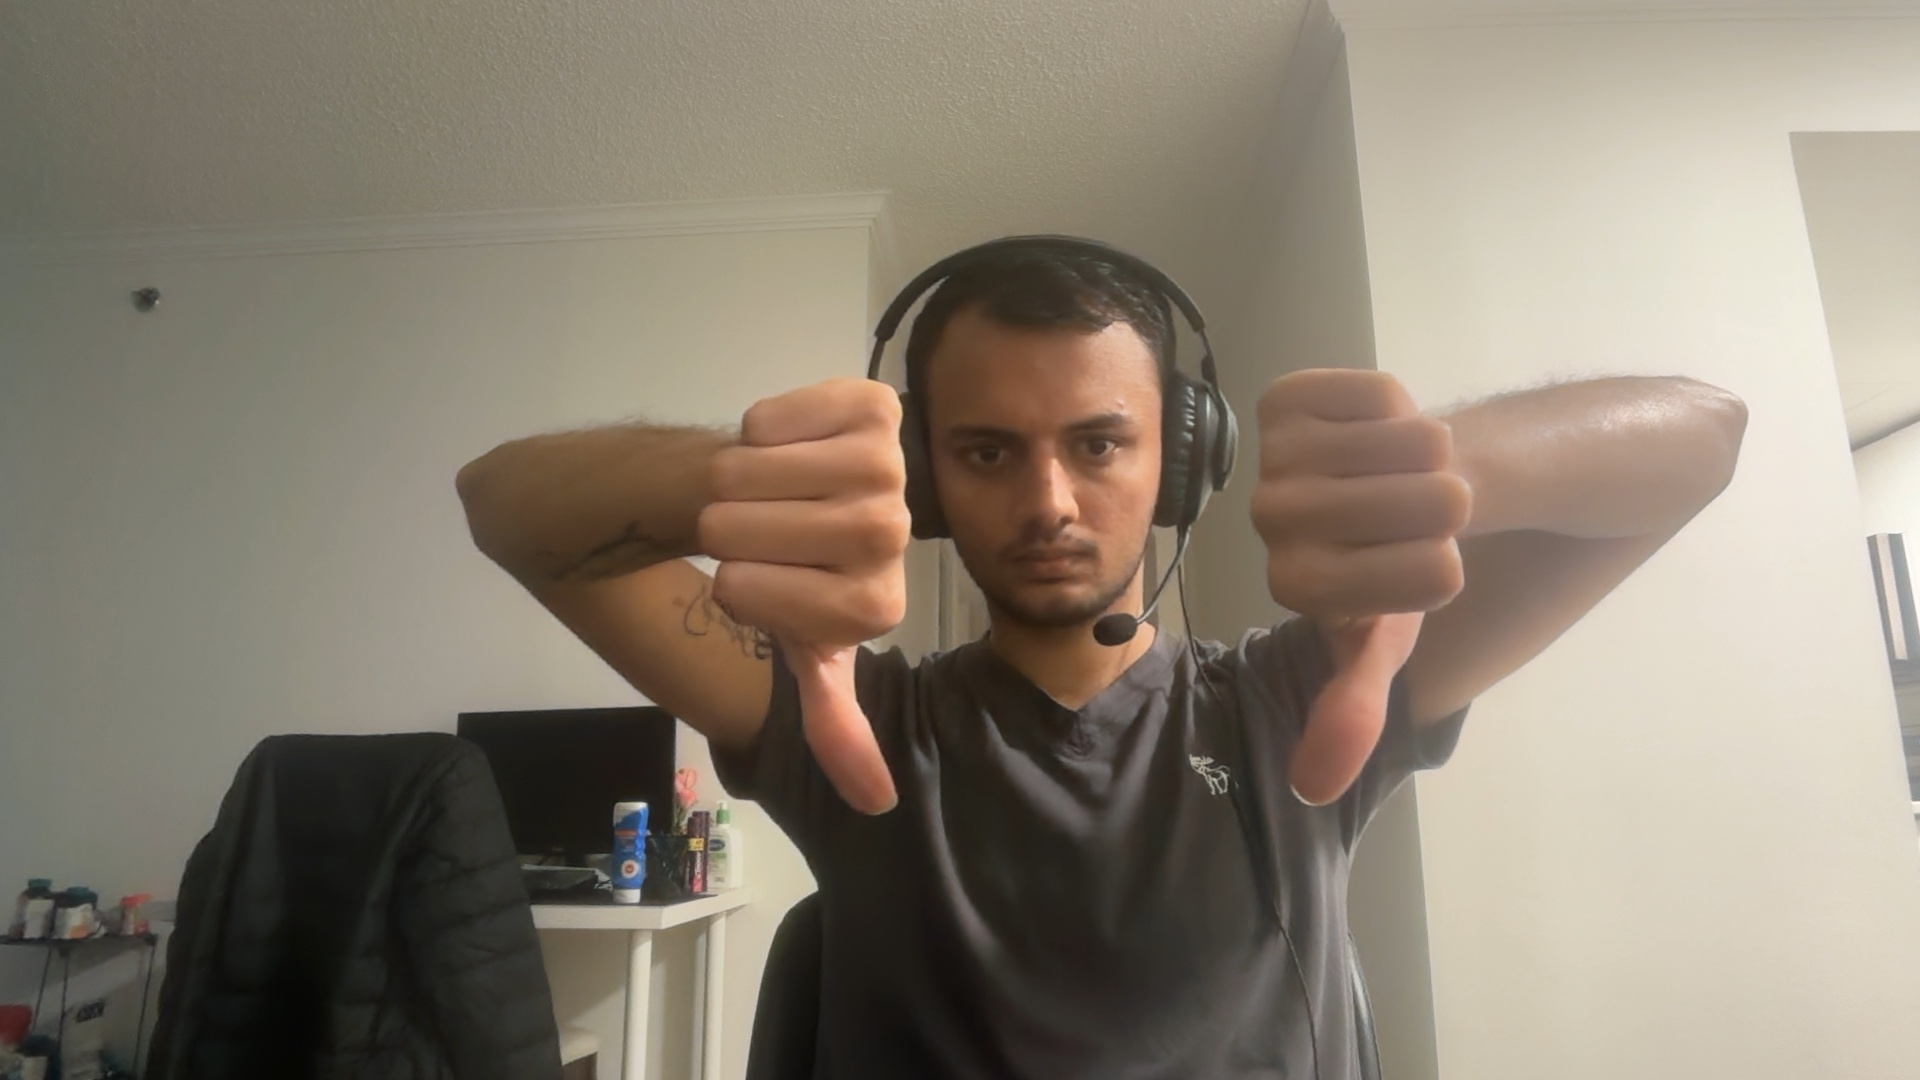thumbsdown: (700, 378, 913, 818)
